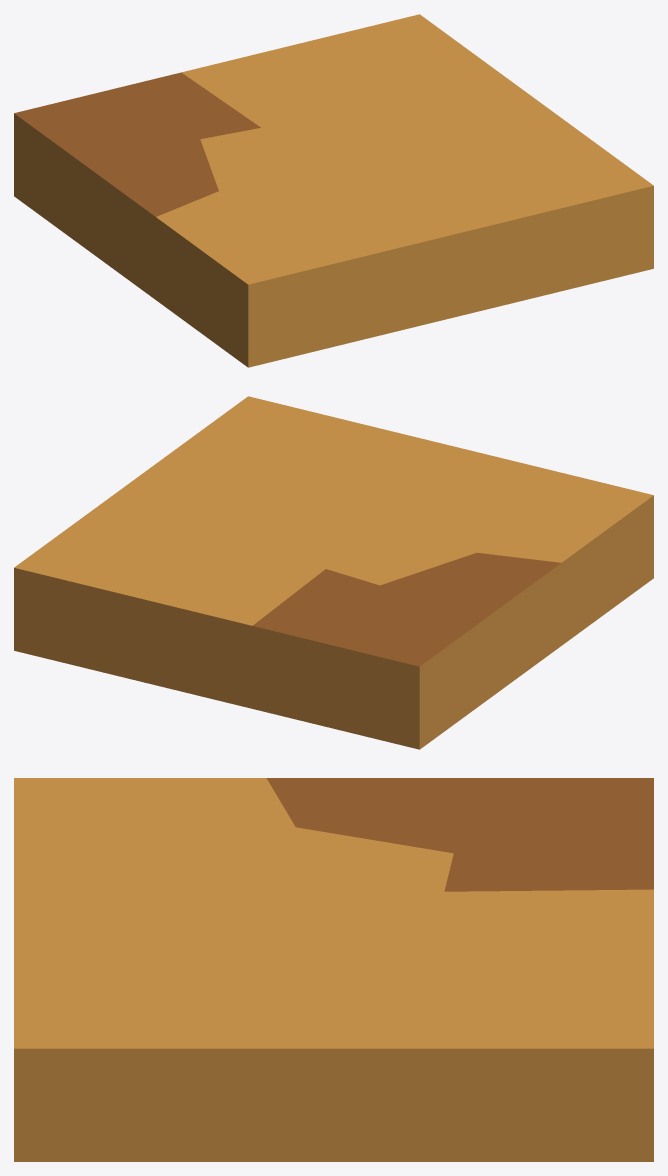
File: Ground_4_5.glb
The picture shows the model from 3 angles, top to bottom: view 1: azimuth 30°, elevation 25°; view 2: azimuth 150°, elevation 25°; view 3: azimuth 270°, elevation 25°; orthographic projection. The views are drawn at different scales.
Visible parts, largest first — view 1: Ground_4_5; view 2: Ground_4_5; view 3: Ground_4_5.
Part boxes in pixels (x1,y1,x2,y2): Ground_4_5: (14, 14, 653, 367); Ground_4_5: (14, 396, 653, 749); Ground_4_5: (14, 778, 653, 1161).
Bounding box in the file's own units: 2 × 0.3912 × 2.
1 material, 1 textured.
